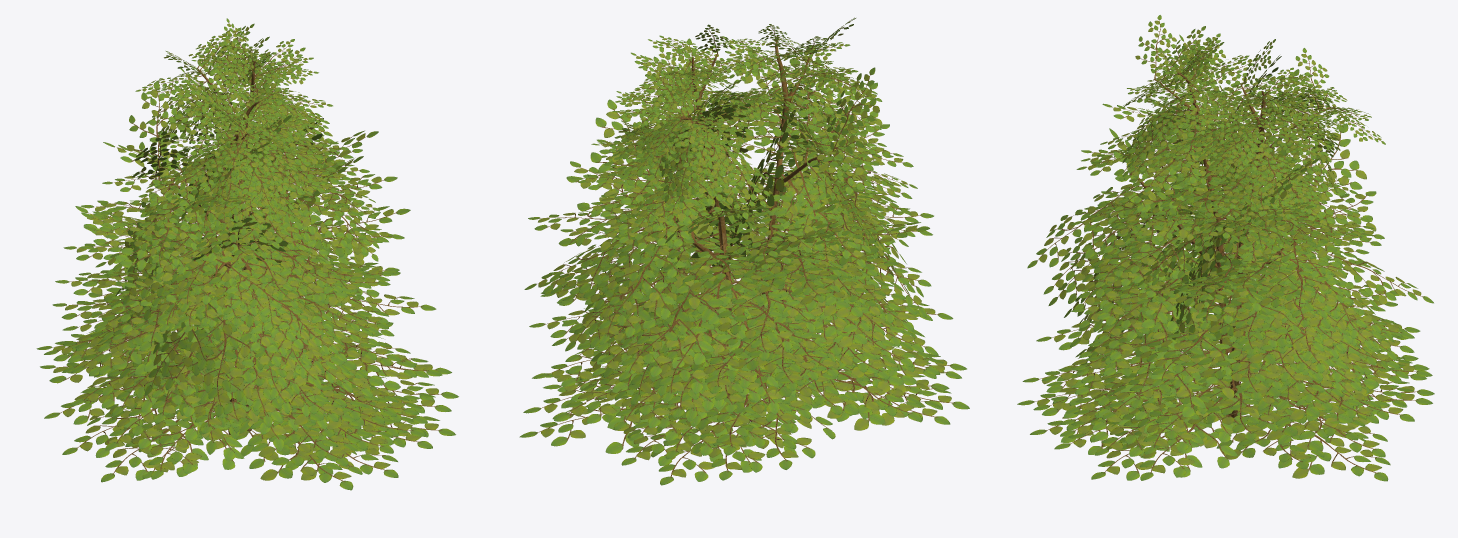
Rendered from bush_shrub_2.glb.
The picture shows the model from 3 angles, left to right: view 1: azimuth 30°, elevation 25°; view 2: azimuth 150°, elevation 25°; view 3: azimuth 270°, elevation 25°; orthographic projection. The views are drawn at different scales.
Parts seen in each view (by area): view 1: bush_shrub_2; view 2: bush_shrub_2; view 3: bush_shrub_2.
Part boxes in pixels (x1,y1,x2,y2): bush_shrub_2: (36,18,458,490); bush_shrub_2: (519,17,969,485); bush_shrub_2: (1017,15,1434,481).
Bounding box in the file's own units: 1.26 × 1.25 × 1.22.
2 materials, 2 textured.
